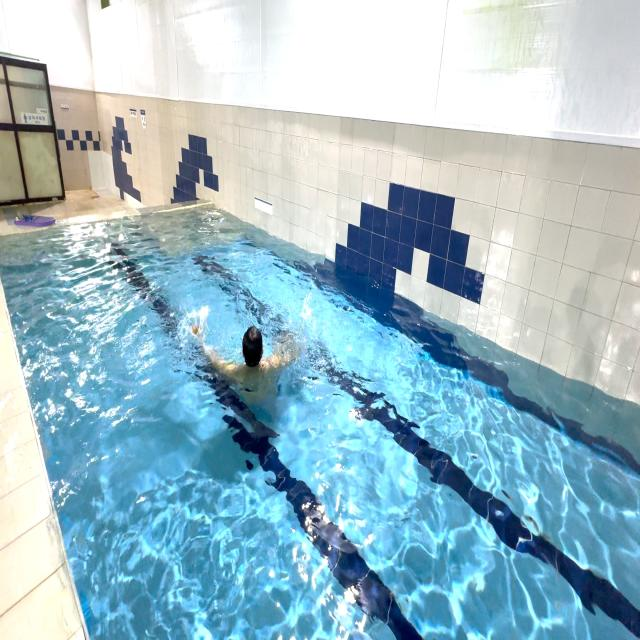Swimming: (181, 301, 323, 417)
